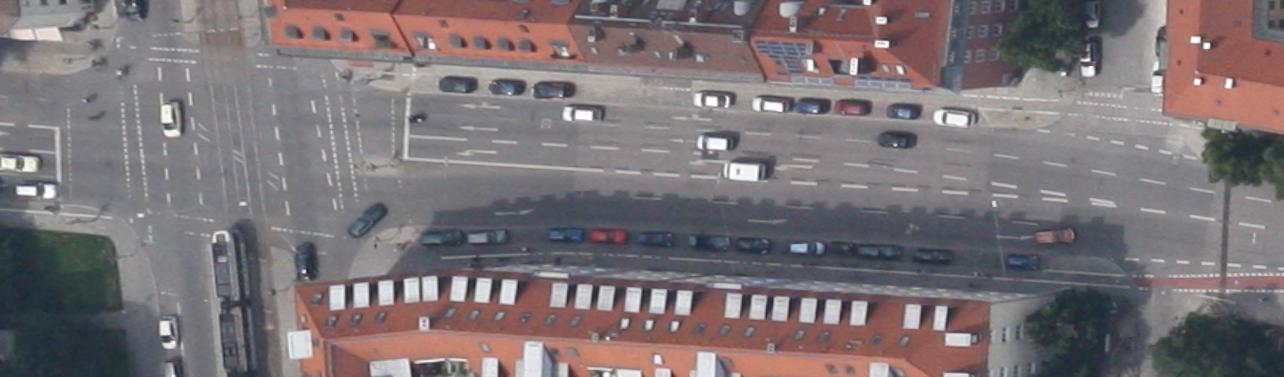car: (346, 200, 386, 239), (295, 241, 317, 281), (933, 108, 976, 128), (162, 98, 182, 138), (561, 103, 603, 122), (878, 130, 917, 150), (158, 314, 179, 350), (1, 153, 40, 172), (688, 235, 730, 252), (857, 244, 901, 260), (440, 76, 478, 94), (1035, 228, 1075, 245), (914, 248, 954, 264), (886, 102, 921, 120), (695, 134, 734, 150), (467, 230, 508, 245), (638, 231, 674, 248), (834, 100, 872, 116), (16, 183, 56, 198), (422, 231, 462, 246), (735, 237, 770, 254), (534, 82, 571, 98), (693, 92, 730, 108), (1080, 41, 1096, 77), (752, 97, 790, 112), (592, 229, 628, 244), (790, 241, 825, 256), (489, 79, 523, 94), (548, 228, 584, 242), (1008, 254, 1038, 270), (795, 98, 826, 113), (830, 240, 855, 258), (1084, 2, 1100, 28)
